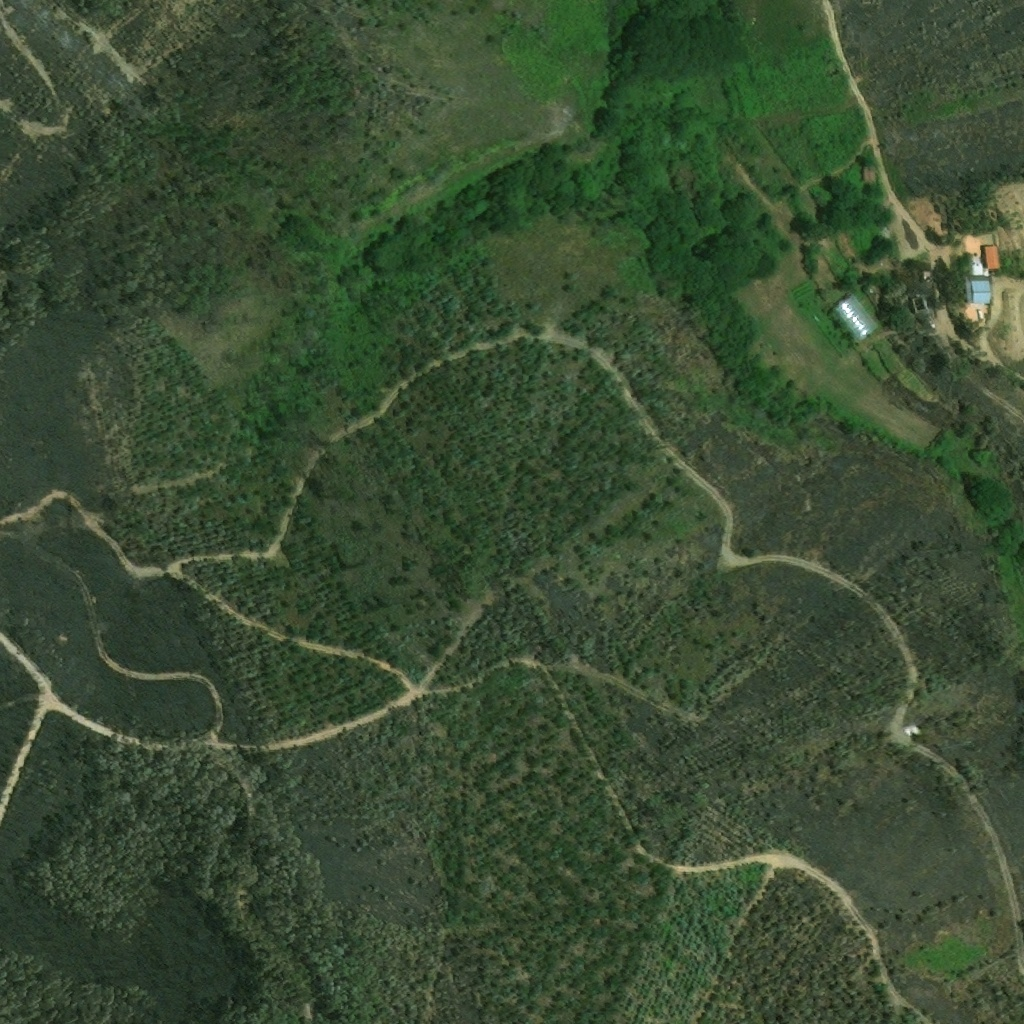0 no-damage: (829, 291, 878, 345), (972, 278, 996, 302), (985, 245, 1002, 269), (968, 253, 984, 276)
4 un-classified: (919, 268, 937, 287)
